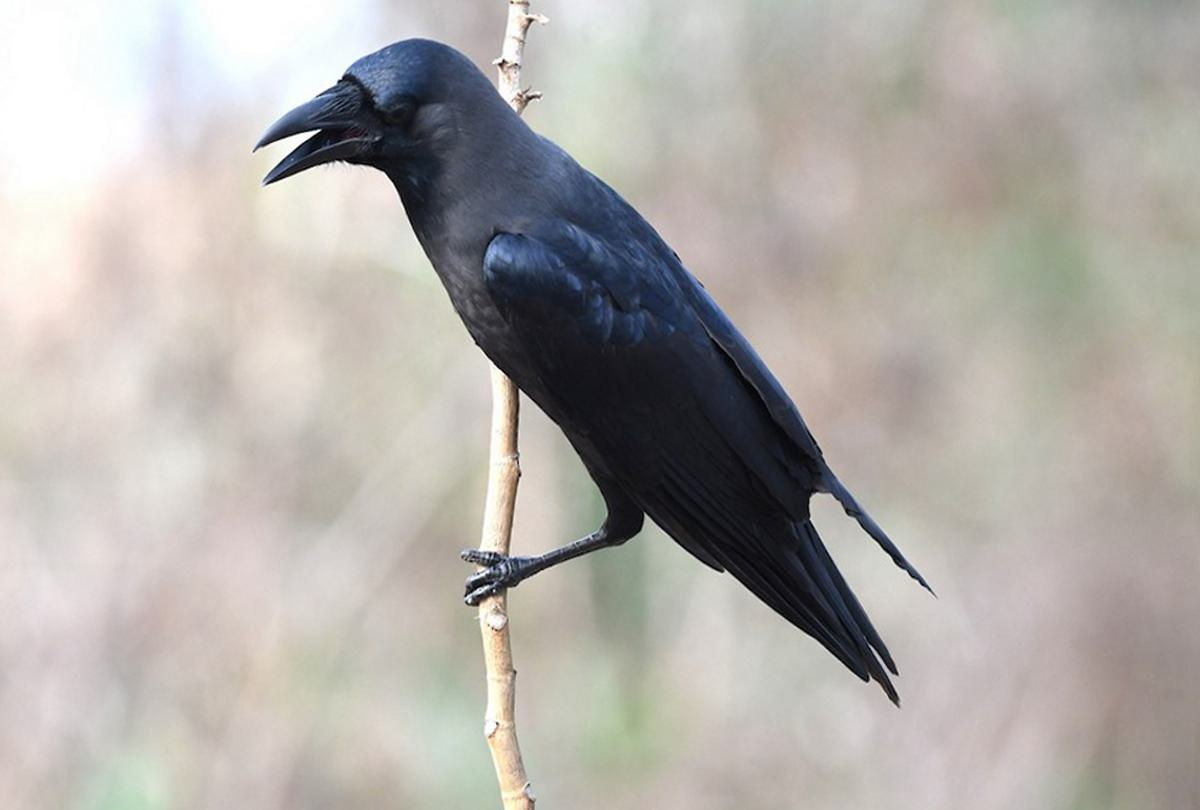crow: (277, 29, 915, 702)
